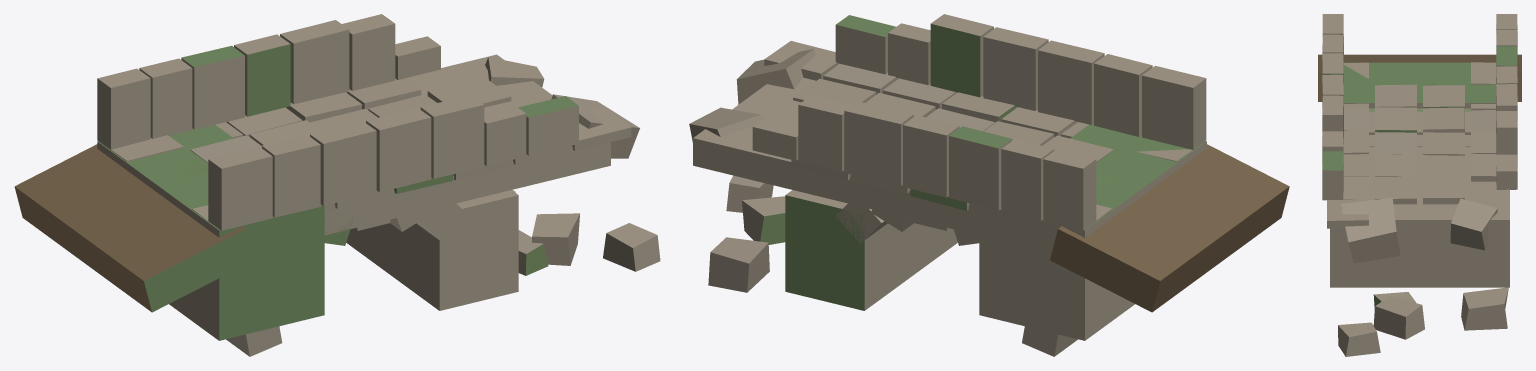
Rendered from set_bridge.glb.
3 renders of one model, left to right at view 1: azimuth 30°, elevation 25°; view 2: azimuth 150°, elevation 25°; view 3: azimuth 270°, elevation 25°, orthographic. The views are drawn at different scales.
Visible parts, largest first — view 1: set_bridge; view 2: set_bridge; view 3: set_bridge.
Boxes of the visible parts, x1,y1,x2,y2 form: set_bridge: [14, 14, 660, 356]; set_bridge: [689, 14, 1289, 356]; set_bridge: [1318, 14, 1521, 356].
Size of the model in its own units: 8.1 by 3.1 by 3.4.
